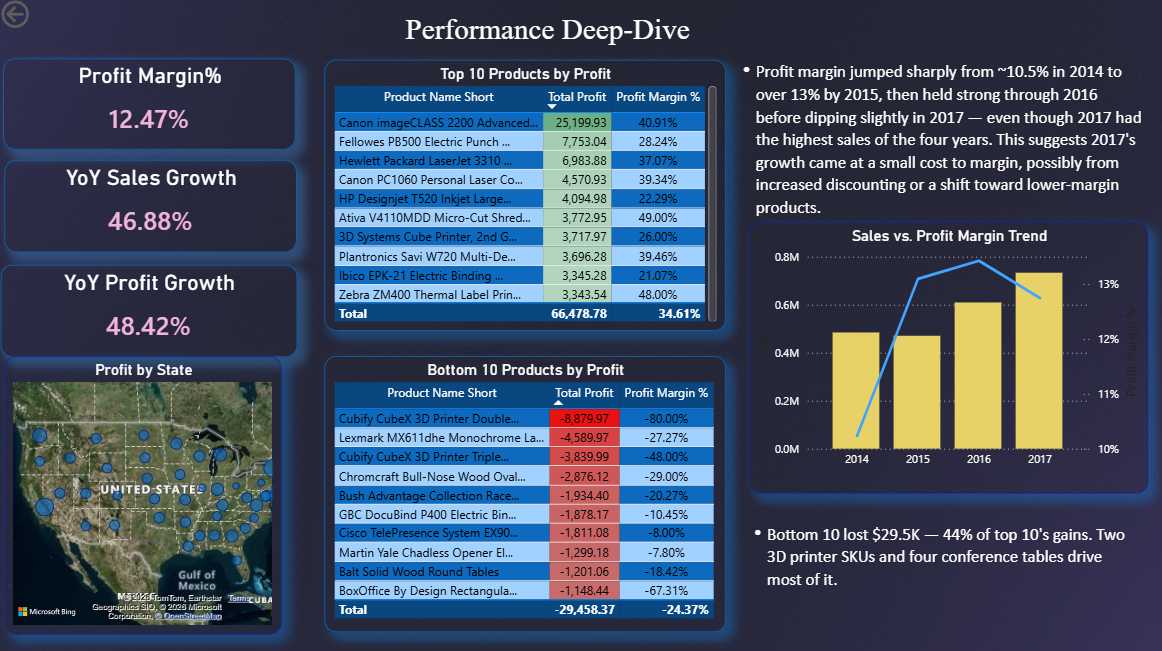

This screenshot's page, from the dashboard's own definition file:
{"tool":"powerbi","page":{"name":"Performance Deep-Dive","canvas":[1280,720],"ordinal":1},"visuals":[{"type":"cardVisual","title":"Profit Margin%","fields":{"Data":["Orders.Profit Margin %"]},"box":[7,69,321.1,100],"z":0},{"type":"cardVisual","title":"YoY Sales Growth","fields":{"Data":["Orders.YoY Sales Growth %"]},"box":[8.5,180.3,321.1,101.4],"z":1000},{"type":"cardVisual","title":"YoY Profit Growth","fields":{"Data":["Orders.YoY Profit Growth %"]},"box":[4.2,294.4,325.4,101.4],"z":2000},{"type":"map","title":"Geographic Profit Distribution","fields":{"Category":["Orders.State"],"Size":["Orders.Total Profit"]},"box":[8.5,395.8,304.2,305.6],"z":3000},{"type":"tableEx","title":"Top 10 Products by Profit","fields":{"Values":["Orders.Product Name Short","Orders.Total Profit","Orders.Profit Margin %"]},"box":[359.5,70,440.5,297.8],"z":4000},{"type":"tableEx","title":"Bottom 10 Products by Profit","fields":{"Values":["Orders.Product Name Short","Orders.Total Profit","Orders.Profit Margin %"]},"box":[359.5,395.2,440.5,303.3],"z":5000},{"type":"lineStackedColumnComboChart","title":"Sales vs. Profit Margin Trend","fields":{"Y":["Orders.Total Sales"],"Category":["DateTable.Year"],"Y2":["Orders.Profit Margin %"]},"box":[826.1,248.4,437.7,297.8],"z":6000},{"type":"textbox","box":[100.2,12.3,1008.6,56.3],"z":7000},{"type":"textbox","box":[800,64.5,463.8,183.9],"z":8000},{"type":"textbox","box":[812.4,572.2,437.7,105.7],"z":9000},{"type":"actionButton","box":[0,0,100,40],"z":10000}]}

Visuals, with their boxes in screenshot pixels (x1, y1, x2, y2), scaled from the page's 1280x720 canvas onto the 1162x651 screenshot:
"Profit Margin%" cardVisual: x1=6, y1=62, x2=298, y2=153
"YoY Sales Growth" cardVisual: x1=8, y1=163, x2=299, y2=255
"YoY Profit Growth" cardVisual: x1=4, y1=266, x2=299, y2=358
"Geographic Profit Distribution" map: x1=8, y1=358, x2=284, y2=634
"Top 10 Products by Profit" tableEx: x1=326, y1=63, x2=726, y2=333
"Bottom 10 Products by Profit" tableEx: x1=326, y1=357, x2=726, y2=632
"Sales vs. Profit Margin Trend" lineStackedColumnComboChart: x1=750, y1=225, x2=1147, y2=494
textbox: x1=91, y1=11, x2=1007, y2=62
textbox: x1=726, y1=58, x2=1147, y2=225
textbox: x1=738, y1=517, x2=1135, y2=613
actionButton: x1=0, y1=0, x2=91, y2=36
